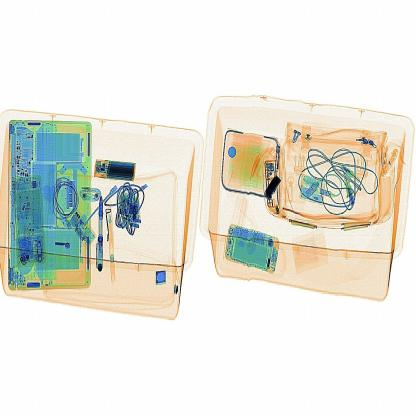scissors: (260, 169, 290, 216)
